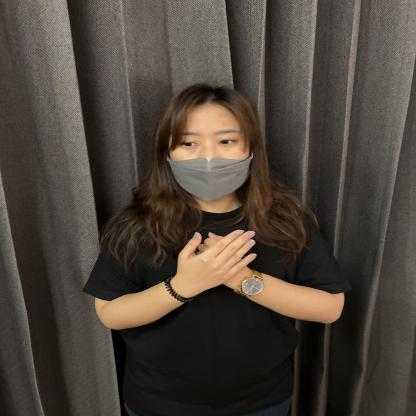Grieve: (98, 199, 318, 334)
